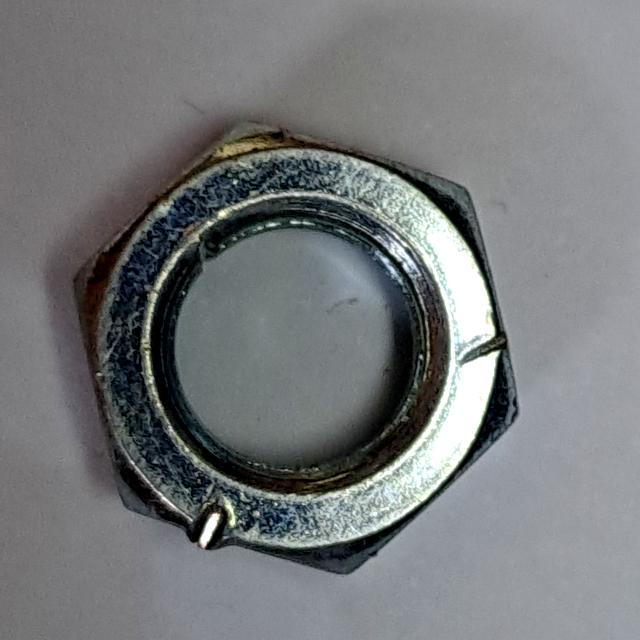Scratches: (59, 108, 547, 598)
